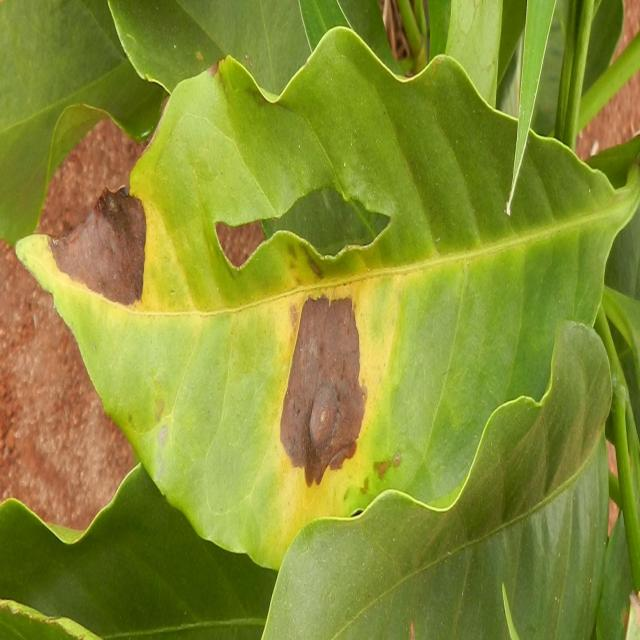Enfermedad-Mancha-de-hierro: (12, 0, 640, 572)
